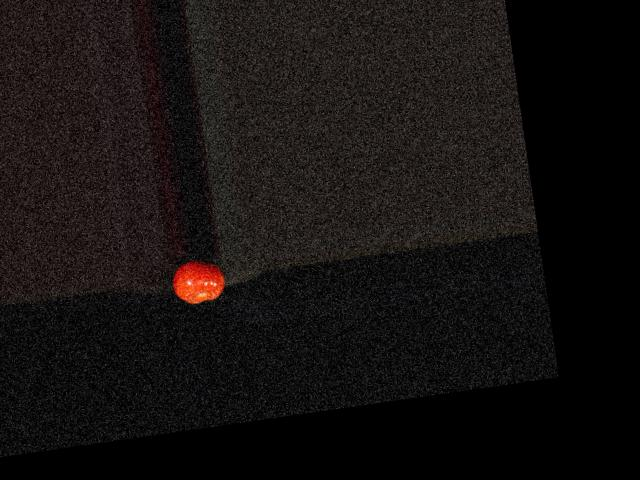tomato: (169, 256, 226, 306)
